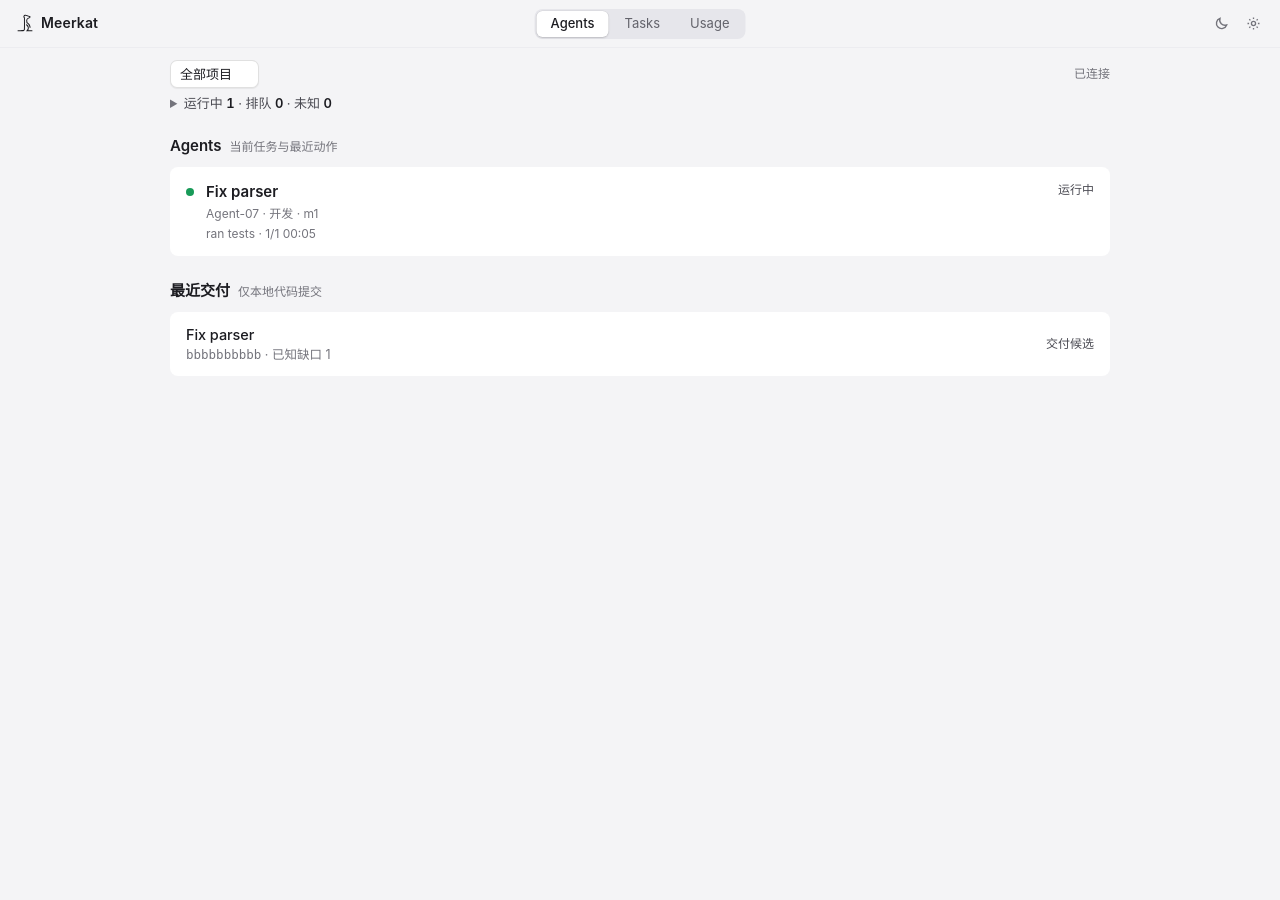
App › shows saved progress without claiming delivery or exposing a resume control
Step 1. Click the button "Tasks" → (642, 24), box [610,10,674,36]
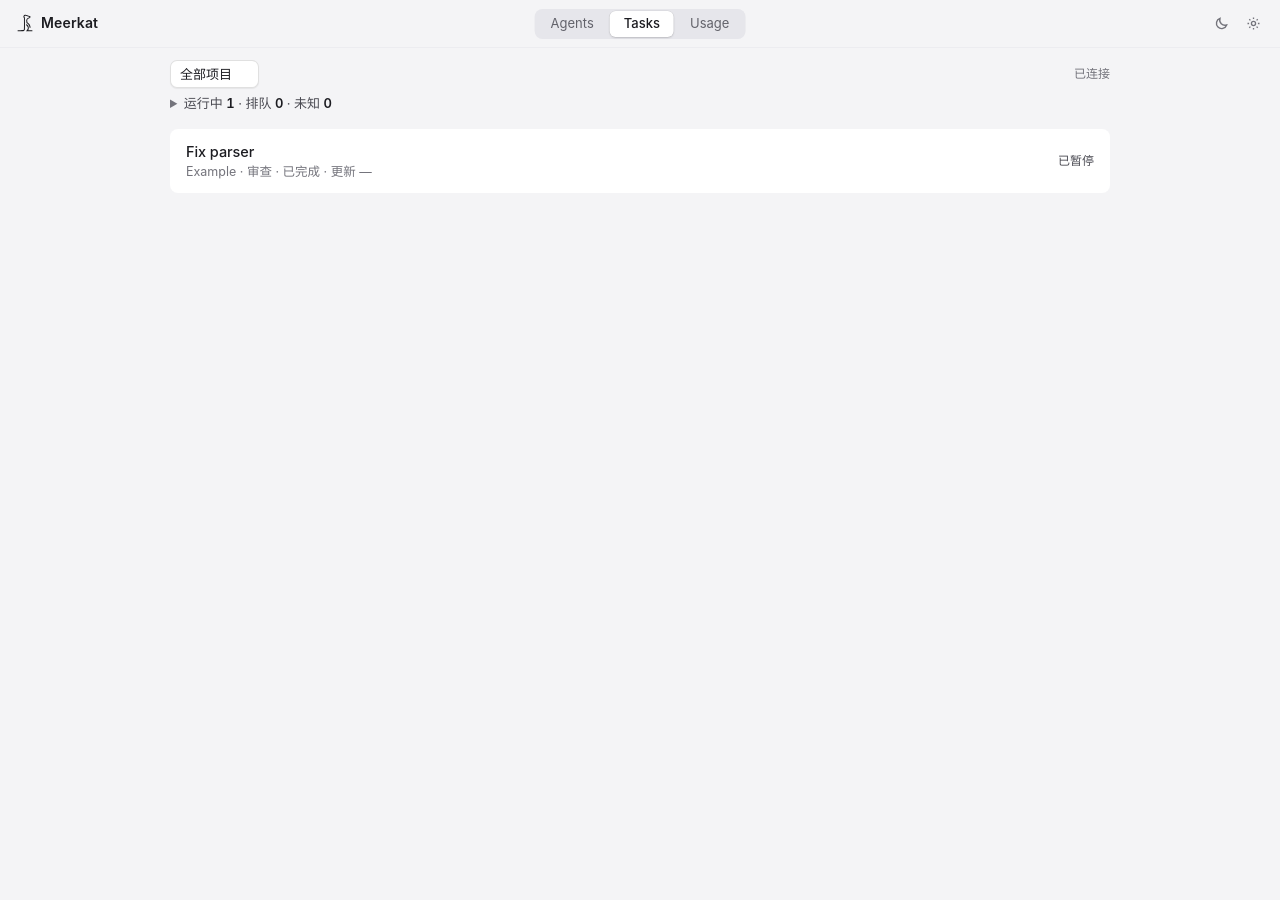
Step 2. Click the text "Fix parser" → (220, 151), box [186,143,254,160]
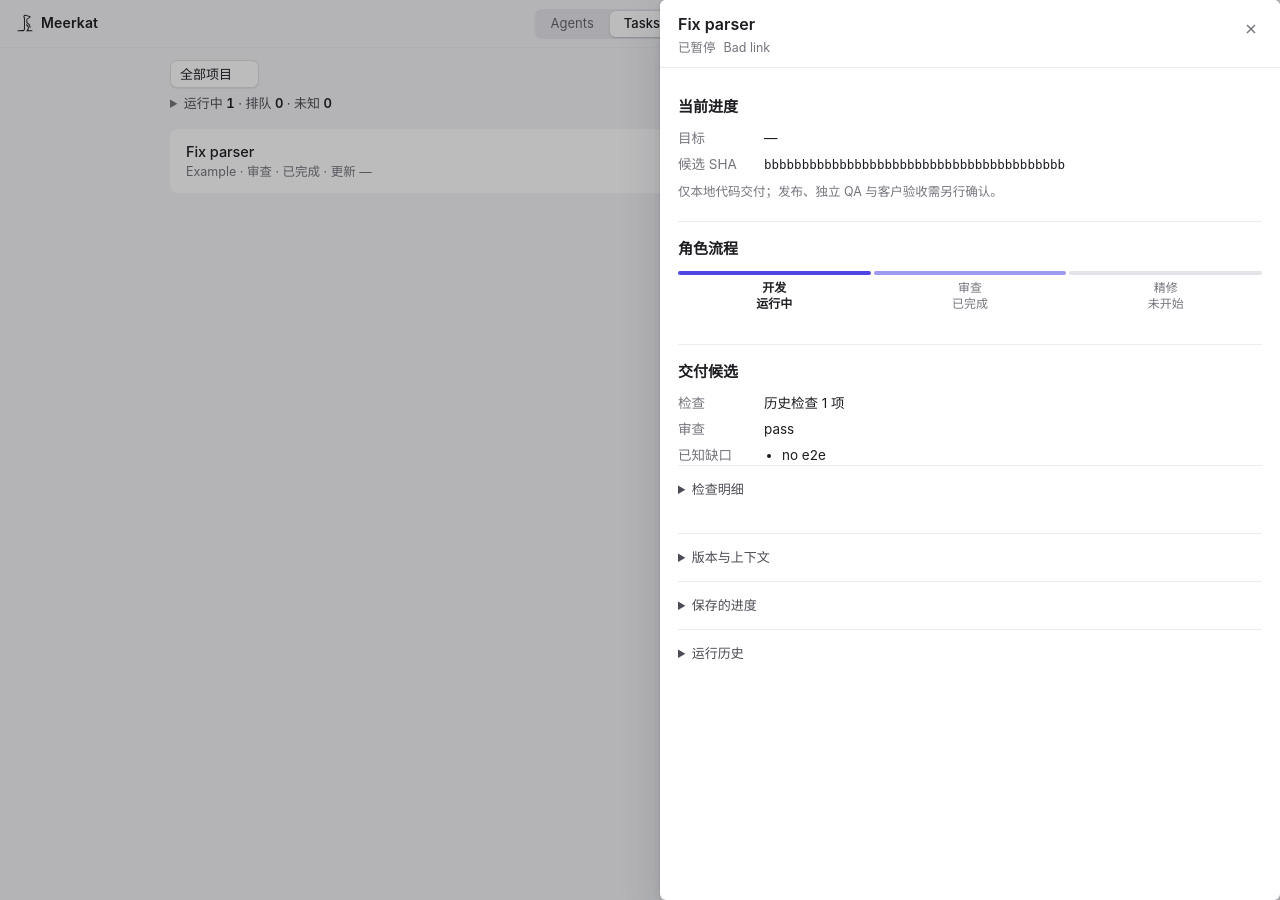
expect the dialog shows "已暂停": met, box [678,40,716,55]
